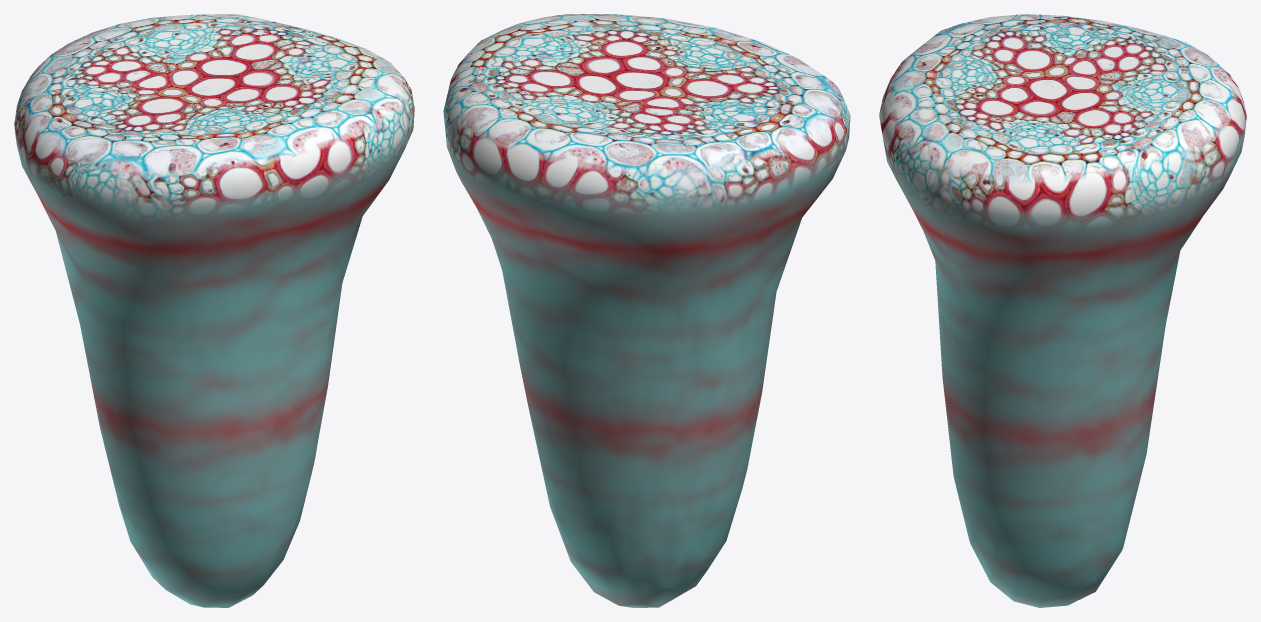
The model's file is Endodermis.fbx.
3 renders of one model, left to right at view 1: azimuth 30°, elevation 25°; view 2: azimuth 150°, elevation 25°; view 3: azimuth 270°, elevation 25°, orthographic.
Visible parts, largest first — view 1: Cube.001; view 2: Cube.001; view 3: Cube.001.
Part boxes in pixels (x1,y1,x2,y2): Cube.001: (14, 14, 414, 607); Cube.001: (443, 14, 850, 607); Cube.001: (879, 14, 1246, 607).
Bounding box in the file's own units: 260 × 361 × 232.
1 material, 1 textured.
